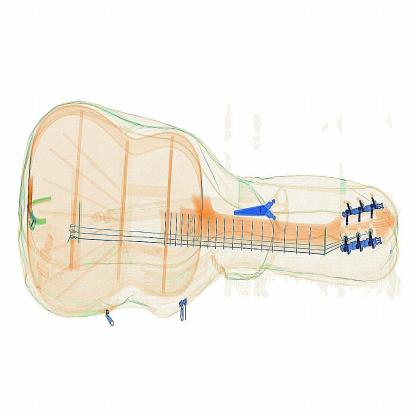gun: (227, 187, 300, 236)
